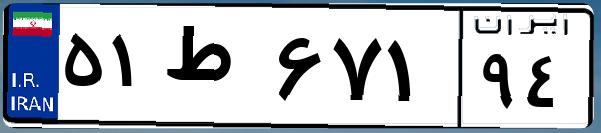1: (385, 28, 445, 110), (110, 28, 158, 98)
4: (525, 38, 570, 115)
5: (57, 26, 110, 100)
6: (270, 28, 330, 110)
7: (330, 28, 385, 110)
9: (475, 38, 525, 113)
ط: (158, 20, 270, 120)
